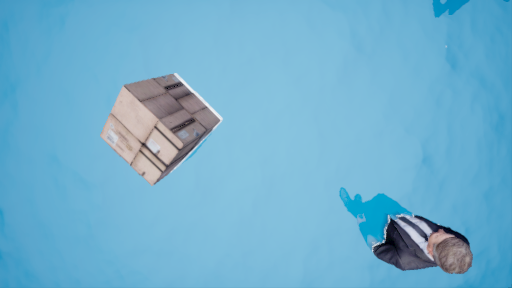person: (334, 189, 486, 279)
